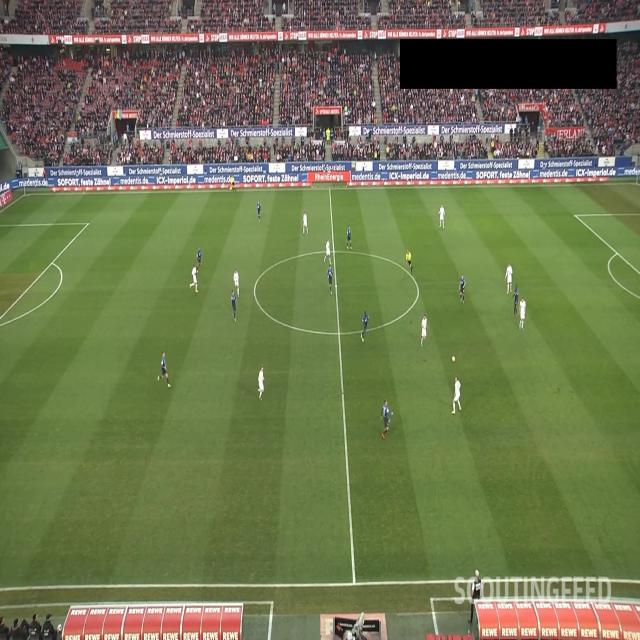ball: (451, 354, 456, 362)
